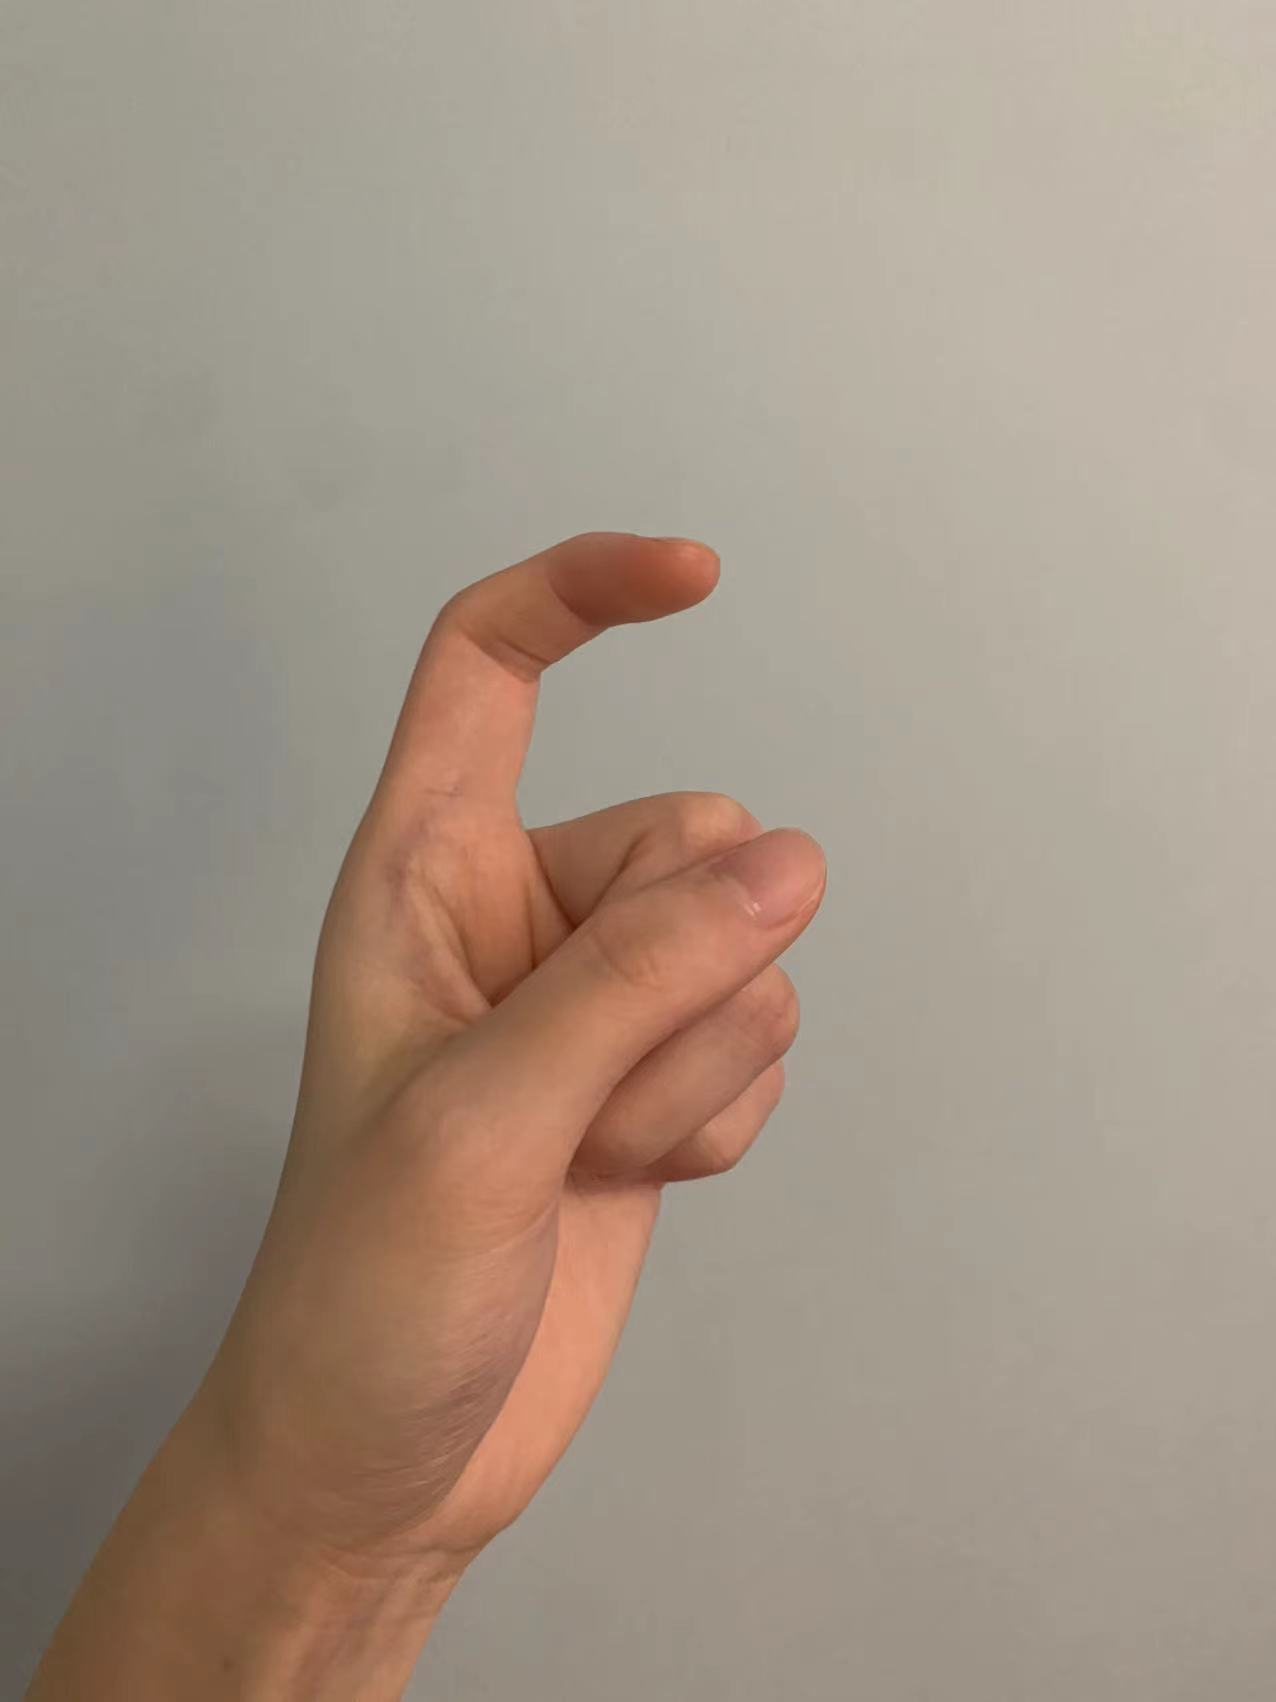anticlockwise: (210, 520, 871, 1484)
